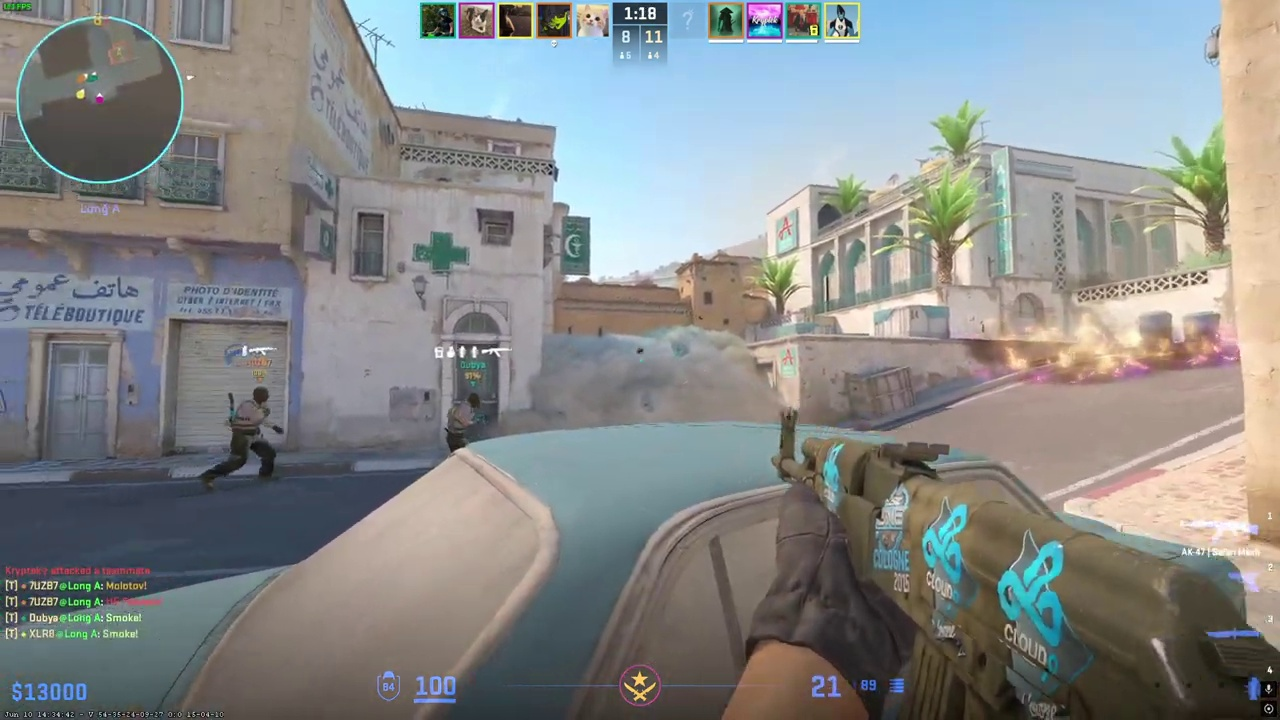Terrorist: (206, 385, 281, 492), (445, 391, 481, 455)
